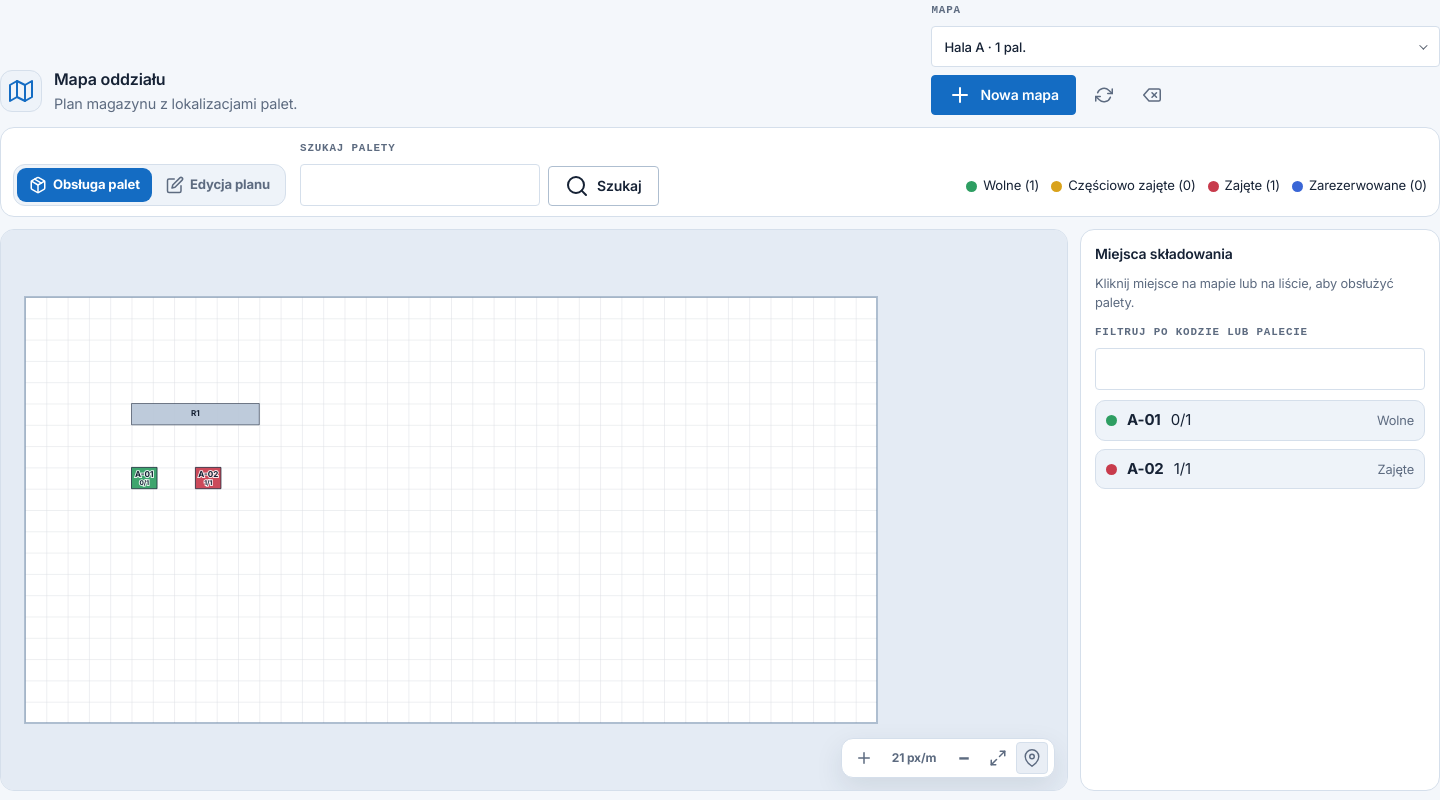
Test: DepartmentMapWorkspace › refuses to regenerate a layout while pallets stand on the map
Expected: the button "Miejsce A-01 – Wolne" is shown, [135,469,154,487]
Step 1. Click the button "Edycja planu" → [218, 185], box [154,168,282,202]
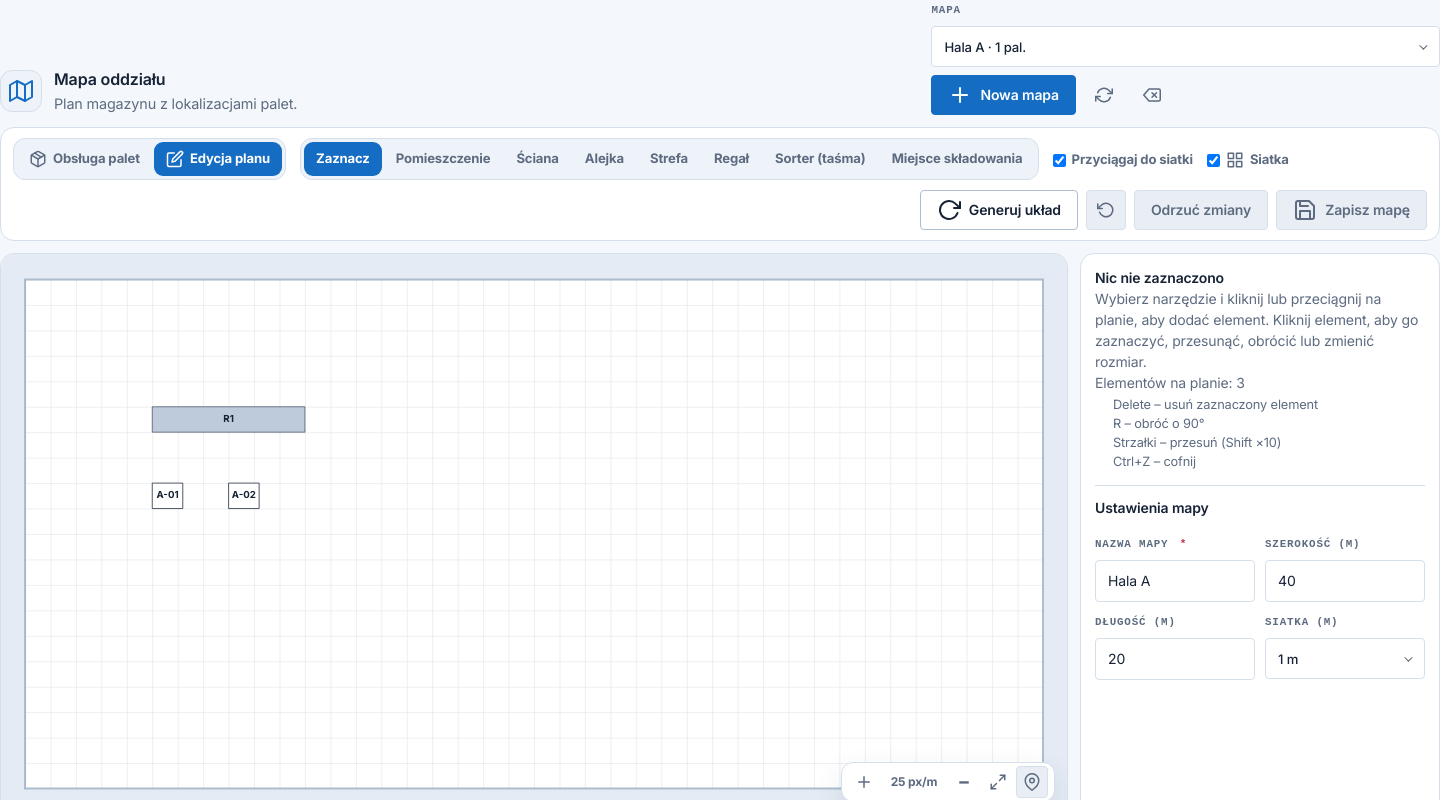
Step 2. Click the button "Generuj układ" → [999, 210], box [920,190,1078,230]
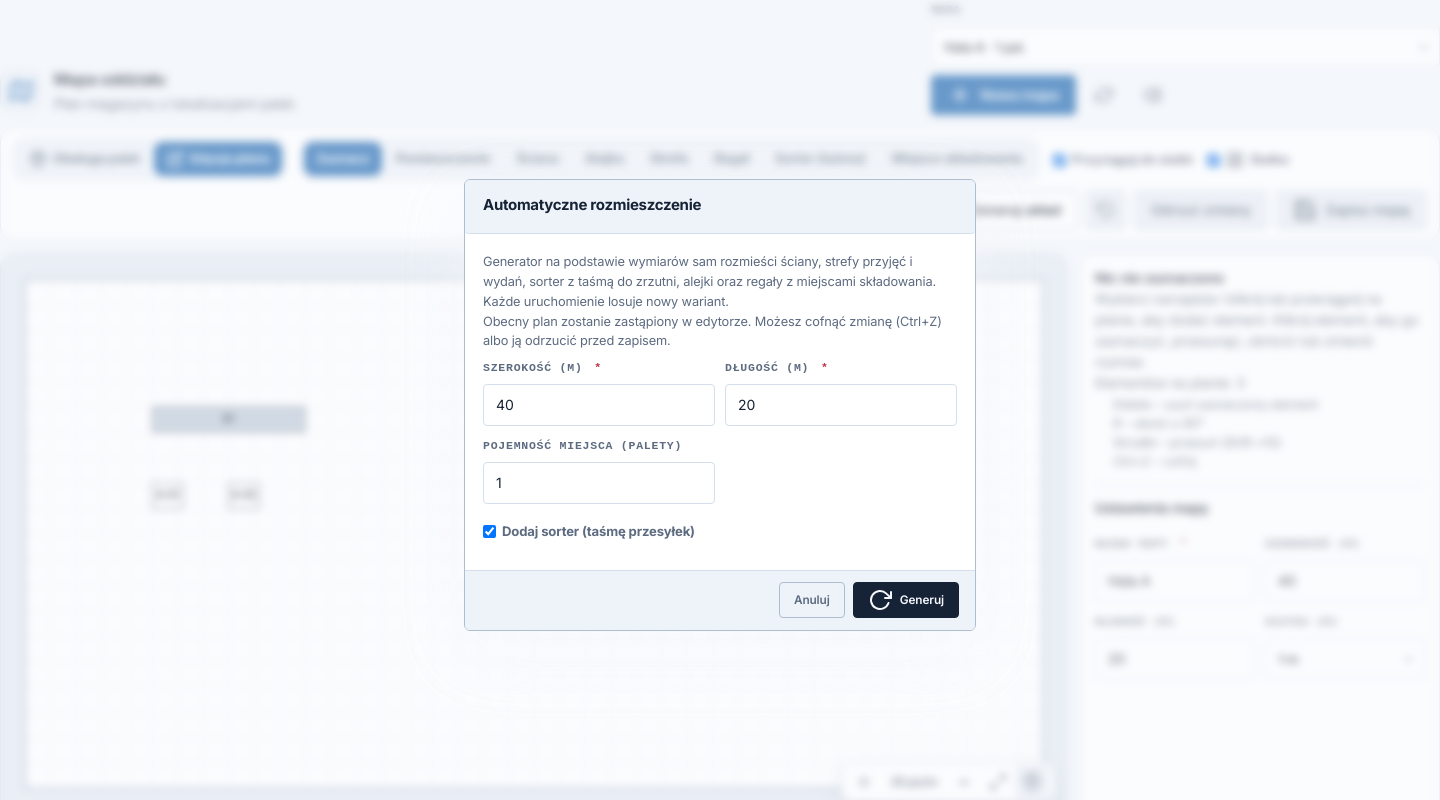
Step 3. Click the button "Generuj" → [906, 600], box [853,582,959,618]
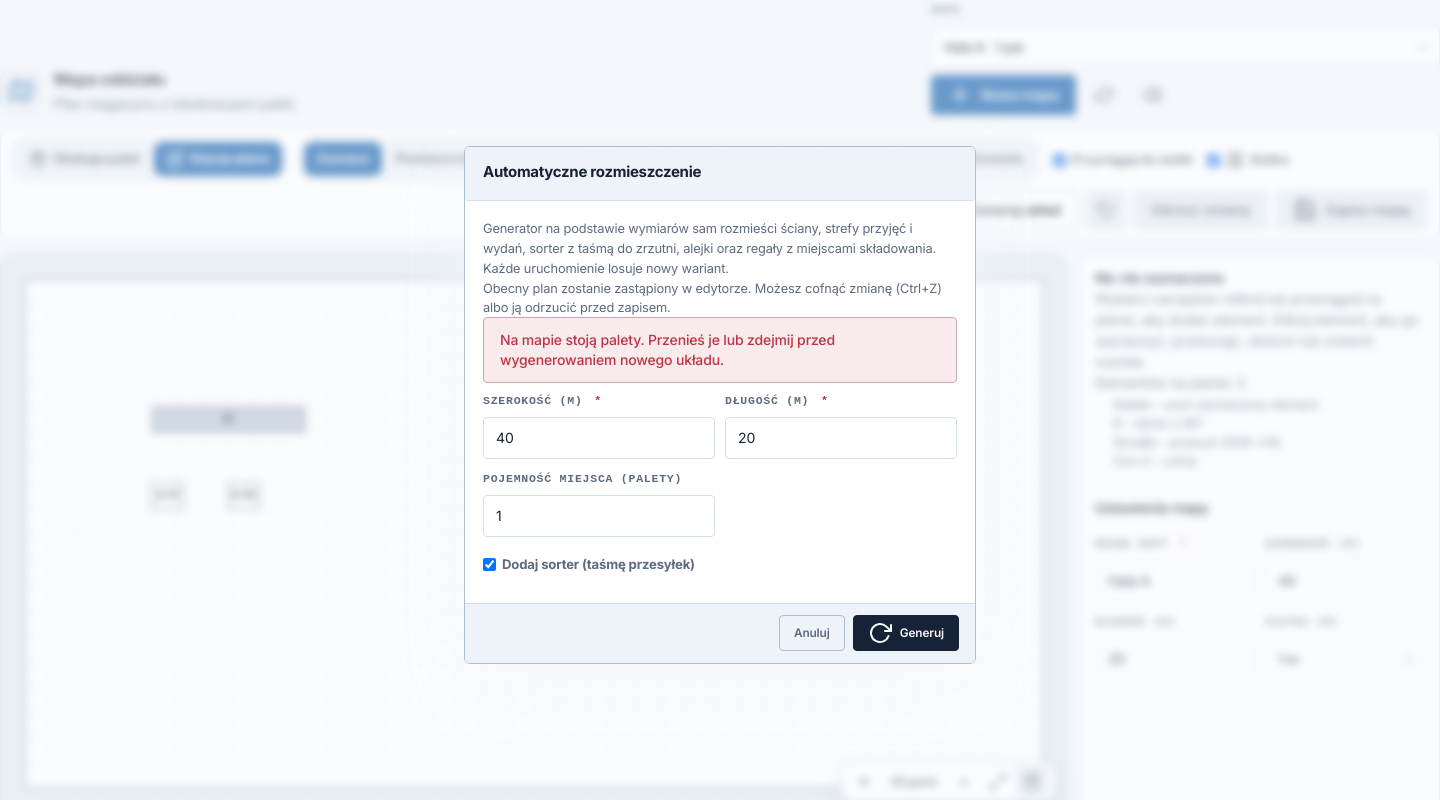
Expected: the text "Na mapie stoją palety. Przenieś je lub zdejmij przed wygenerowaniem nowego układu." is shown, [500,331,835,368]
